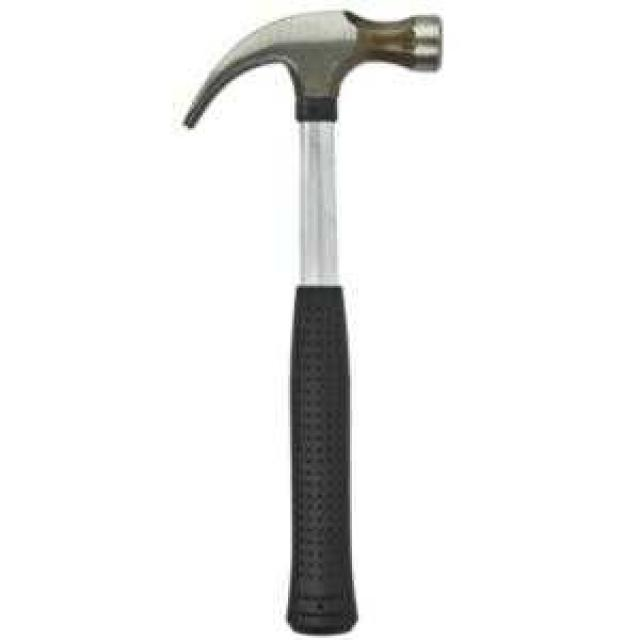hammer: (164, 15, 471, 640)
